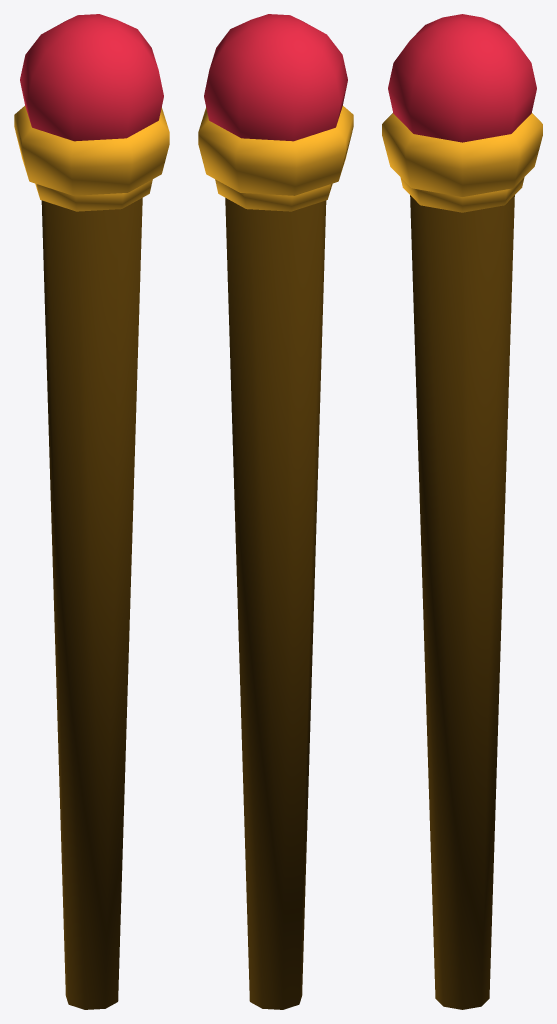
Rendered from Magic_Wand.fbx.
3 views of the same model, side by side, from view 1: azimuth 30°, elevation 25°; view 2: azimuth 150°, elevation 25°; view 3: azimuth 270°, elevation 25° (orthographic).
Visible parts, largest first — view 1: Wand, Jewel, Jewel_Base; view 2: Wand, Jewel, Jewel_Base; view 3: Wand, Jewel, Jewel_Base.
Boxes of the visible parts, bbox=[...] form: Wand: bbox=[41, 198, 142, 1009]; Jewel: bbox=[20, 14, 163, 141]; Jewel_Base: bbox=[14, 106, 169, 211]; Wand: bbox=[225, 198, 326, 1009]; Jewel: bbox=[204, 14, 347, 141]; Jewel_Base: bbox=[198, 106, 353, 211]; Wand: bbox=[410, 195, 514, 1009]; Jewel: bbox=[388, 14, 536, 142]; Jewel_Base: bbox=[382, 113, 542, 212].
Size of the model in its own units: 269 by 1807 by 269.
